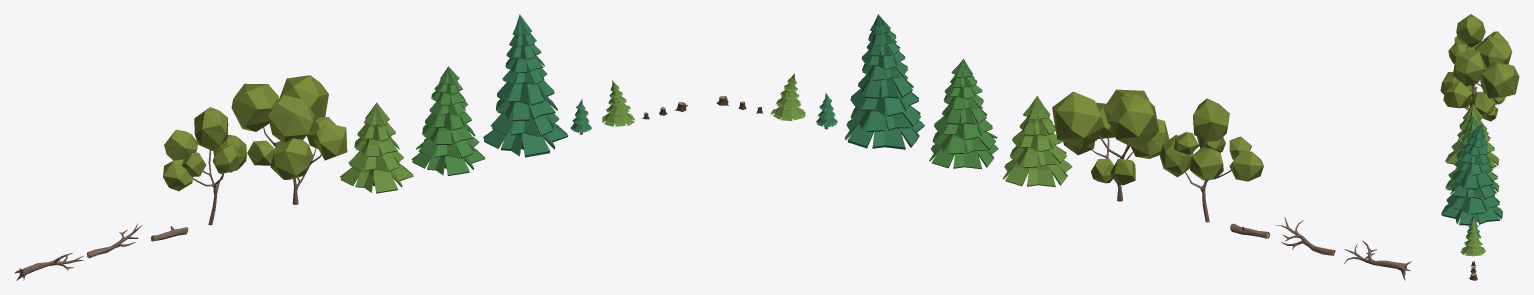
File: 0_OtherTrees.fbx
3 views of the same model, side by side, from view 1: azimuth 30°, elevation 25°; view 2: azimuth 150°, elevation 25°; view 3: azimuth 270°, elevation 25° (orthographic). The views are drawn at different scales.
Visible parts, largest first — view 1: oak_2, spruce_3, spruce_2, oak_1, spruce_1, spruce_small_2, fallen_tree_1; view 2: oak_2, spruce_3, oak_1, spruce_2, spruce_1, spruce_small_2, fallen_tree_1, fallen_tree_2, spruce_small_1; view 3: oak_2, spruce_3, oak_1, spruce_1, spruce_2, spruce_small_2, spruce_small_1.
Part boxes in pixels (x1,y1,x2,y2): oak_2: (231, 75, 347, 204); spruce_3: (483, 14, 568, 157); spruce_2: (411, 66, 485, 175); oak_1: (163, 107, 246, 225); spruce_1: (340, 102, 413, 193); spruce_small_2: (602, 80, 635, 126); fallen_tree_1: (14, 253, 83, 280); oak_2: (1052, 89, 1169, 201); spruce_3: (844, 14, 924, 149); oak_1: (1160, 98, 1263, 222); spruce_2: (929, 58, 998, 169); spruce_1: (1003, 96, 1072, 187); spruce_small_2: (770, 73, 805, 121); fallen_tree_1: (1344, 240, 1411, 280); fallen_tree_2: (1275, 217, 1335, 255); spruce_small_1: (816, 92, 837, 129); oak_2: (1440, 36, 1519, 121); spruce_3: (1441, 123, 1502, 225); oak_1: (1448, 14, 1508, 96); spruce_1: (1445, 104, 1499, 167); spruce_2: (1445, 116, 1499, 193); spruce_small_2: (1460, 218, 1485, 256); spruce_small_1: (1466, 215, 1480, 239).
Bounding box in the file's own units: 6004 × 1190 × 808.
1 material, 1 textured.
